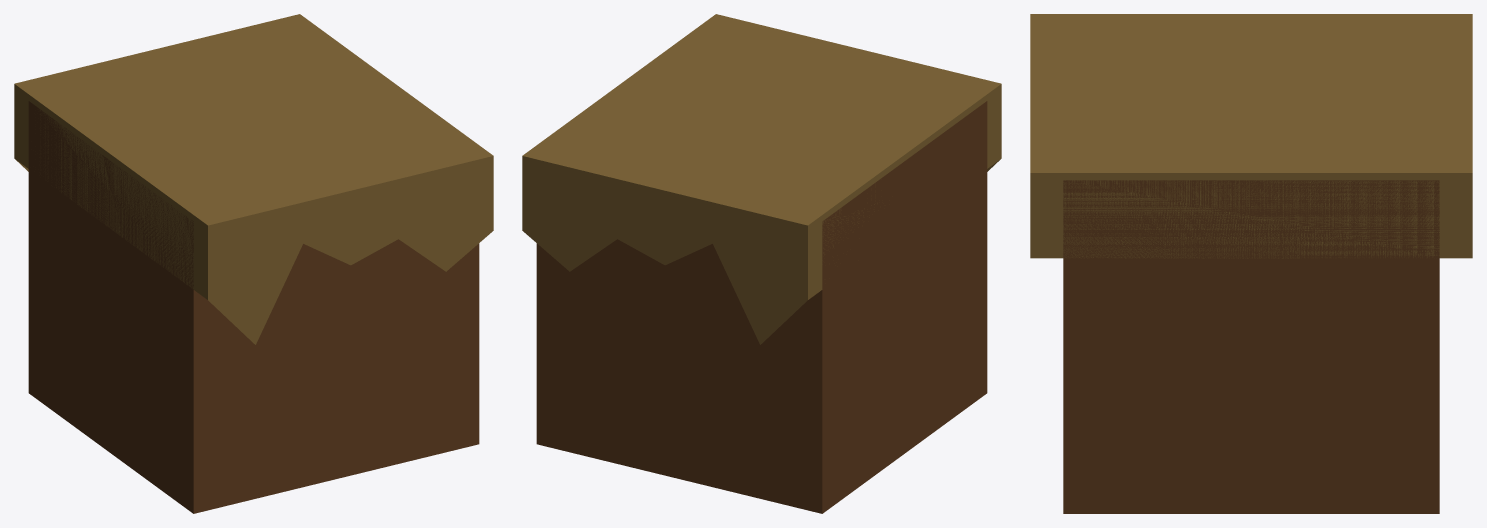
Rendered from Grass_Block.001.glb.
The picture shows the model from 3 angles, left to right: view 1: azimuth 30°, elevation 25°; view 2: azimuth 150°, elevation 25°; view 3: azimuth 270°, elevation 25°; orthographic projection. The views are drawn at different scales.
Parts seen in each view (by area): view 1: Grass_Block.001; view 2: Grass_Block.001; view 3: Grass_Block.001.
Part boxes in pixels (box(x1,y1,x2,y2)): Grass_Block.001: box(14, 14, 493, 513); Grass_Block.001: box(522, 14, 1001, 513); Grass_Block.001: box(1030, 14, 1472, 513).
Bounding box in the file's own units: 2 × 2 × 2.35.
1 material, 1 textured.
